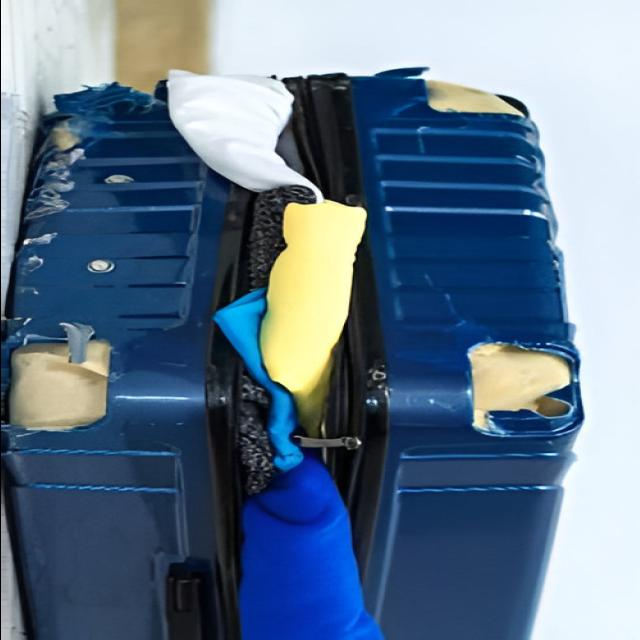Damage-bag: (25, 70, 380, 640), (2, 318, 112, 440), (468, 341, 580, 436), (424, 82, 527, 120), (17, 232, 54, 279), (370, 69, 426, 79)
